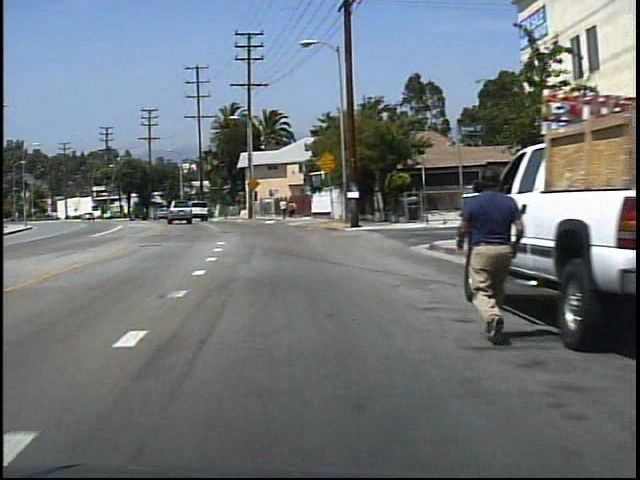person: (448, 163, 516, 347), (278, 196, 288, 221), (287, 199, 297, 220)
